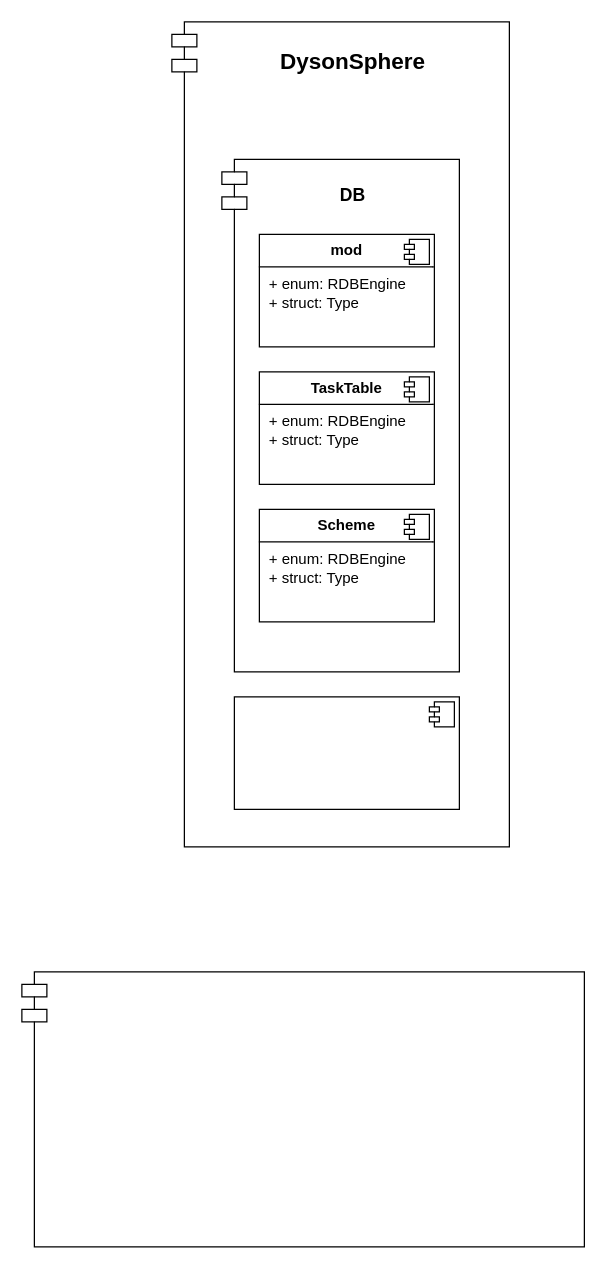
Image size: 606x1269. Some labels were removed from this diagram. The centre of each missing label's shape, as x and y in pixels:
message + enum: RDBEngine + struct: Type: the point at 346,752
TON618: the point at 302,1109
